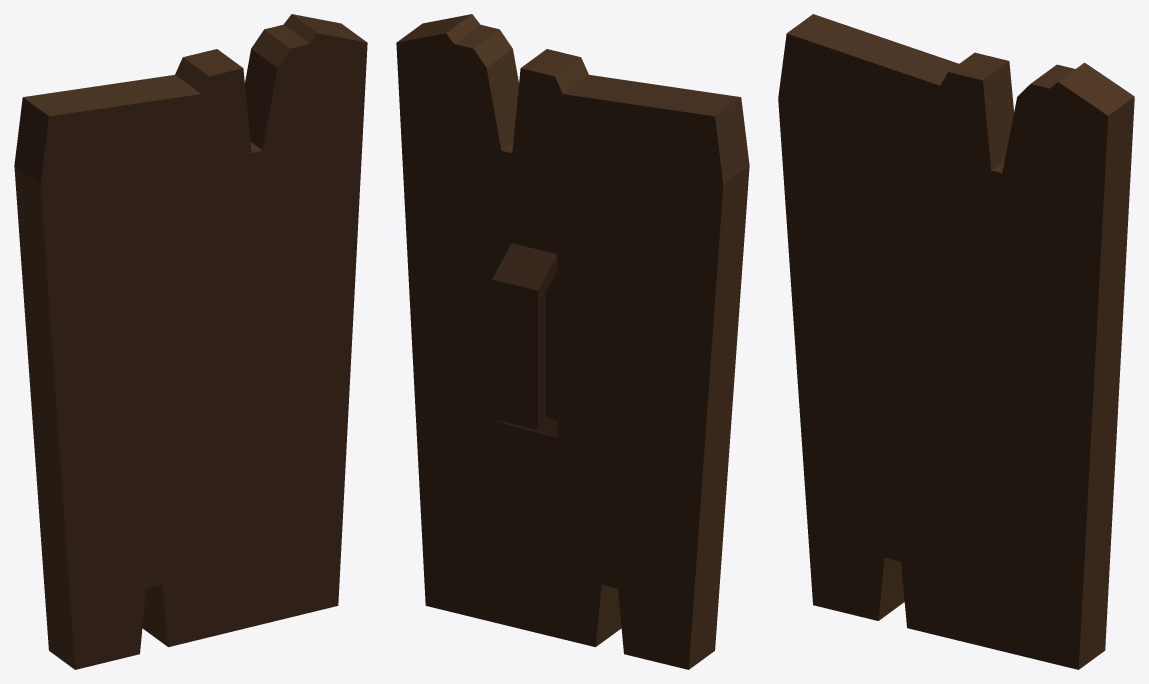
File: Cave_Lair_Weapon_Wooden_Timber_Shield_01.fbx
3 views of the same model, side by side, from view 1: azimuth 30°, elevation 25°; view 2: azimuth 150°, elevation 25°; view 3: azimuth 330°, elevation 25° (orthographic).
Parts seen in each view (by area): view 1: Cave_Lair_Weapon_Wooden_Timber_Shield_01; view 2: Cave_Lair_Weapon_Wooden_Timber_Shield_01; view 3: Cave_Lair_Weapon_Wooden_Timber_Shield_01.
Part boxes in pixels (<box>): Cave_Lair_Weapon_Wooden_Timber_Shield_01: <box>14,14,367,669</box>; Cave_Lair_Weapon_Wooden_Timber_Shield_01: <box>396,14,749,669</box>; Cave_Lair_Weapon_Wooden_Timber_Shield_01: <box>778,14,1134,669</box>.
Size of the model in its own units: 0.3358 by 0.5669 by 0.0818.
